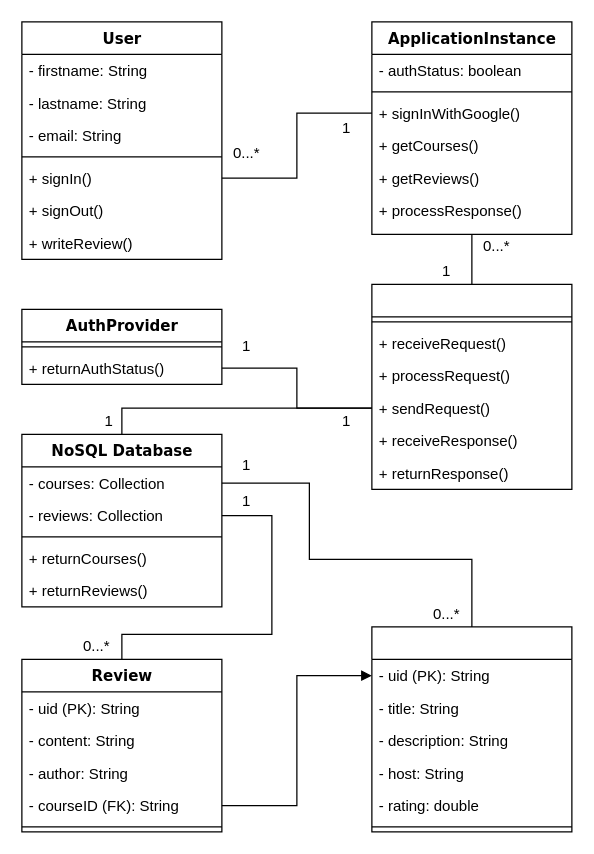
Image size: 594x854. Some labels were removed from this diagram. The shapes that lost their labels are listed below. From the top down, each one's box as (x1, y1, x2, y2) in pixels, then its label:
(371, 283, 572, 489): BackendServer
(371, 626, 572, 832): Course
